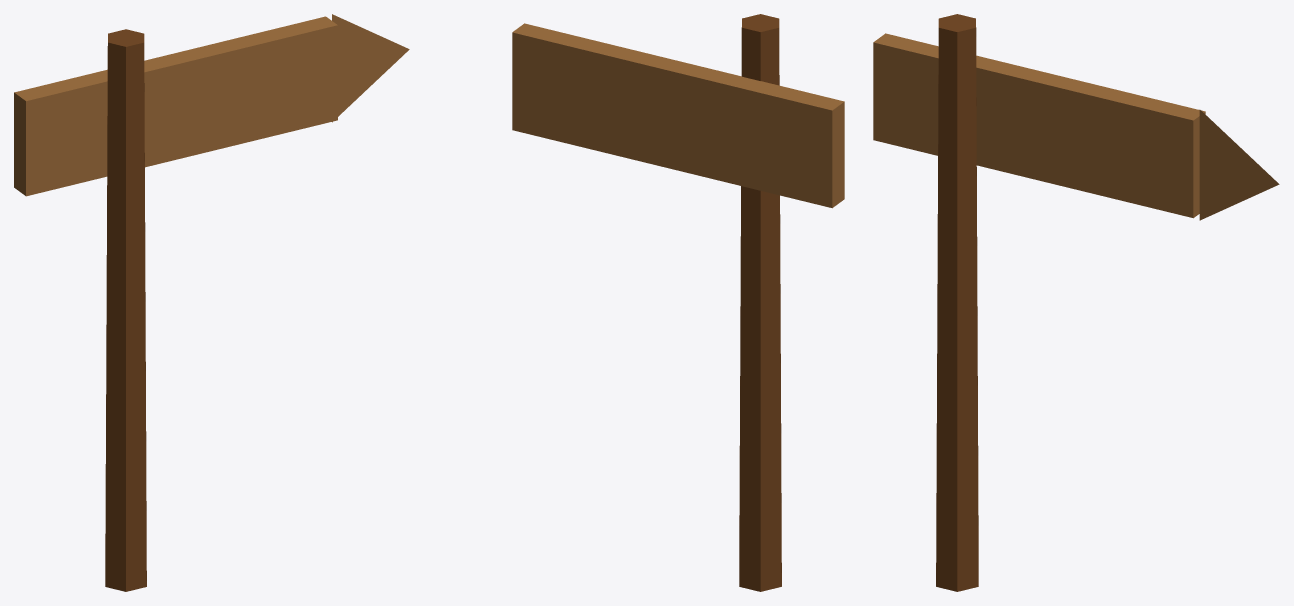
The model's file is signpost.glb.
3 views of the same model, side by side, from view 1: azimuth 30°, elevation 25°; view 2: azimuth 150°, elevation 25°; view 3: azimuth 330°, elevation 25° (orthographic). The views are drawn at different scales.
Parts seen in each view (by area): view 1: signpost; view 2: signpost; view 3: signpost.
Boxes of the visible parts, box(x1,y1,x2,y2) form: signpost: box(14, 14, 409, 591); signpost: box(512, 14, 844, 591); signpost: box(873, 14, 1279, 591).
Size of the model in its own units: 1.5 by 2 by 0.2093.
